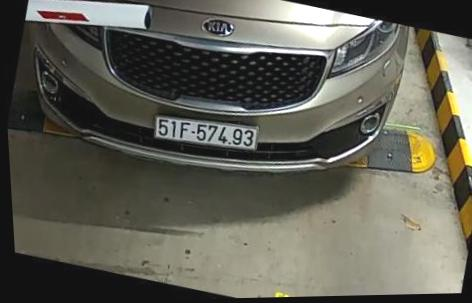License_Plate: (149, 108, 265, 169)
